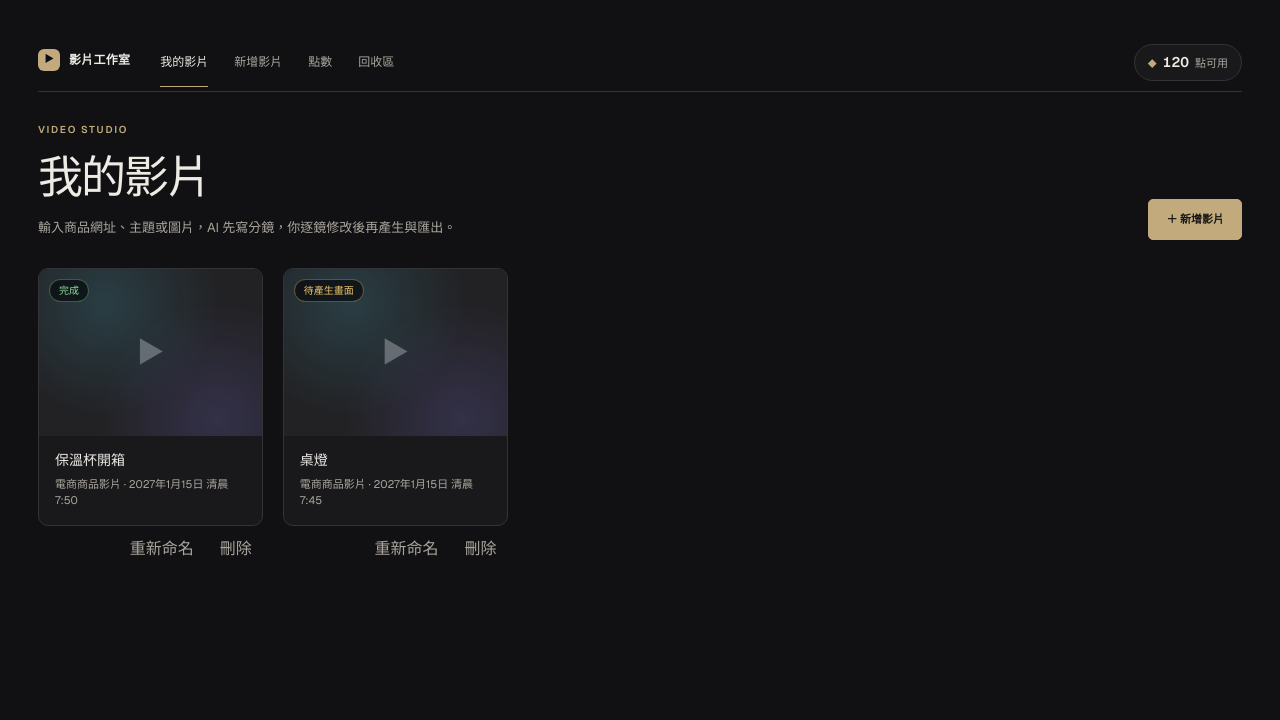
Test: delete from the list › warns that credits are not refunded, then moves the video to the trash
Click the button with aria-label "刪除「保溫杯開箱」". click: (236, 549)
box: [209,532,263,566]
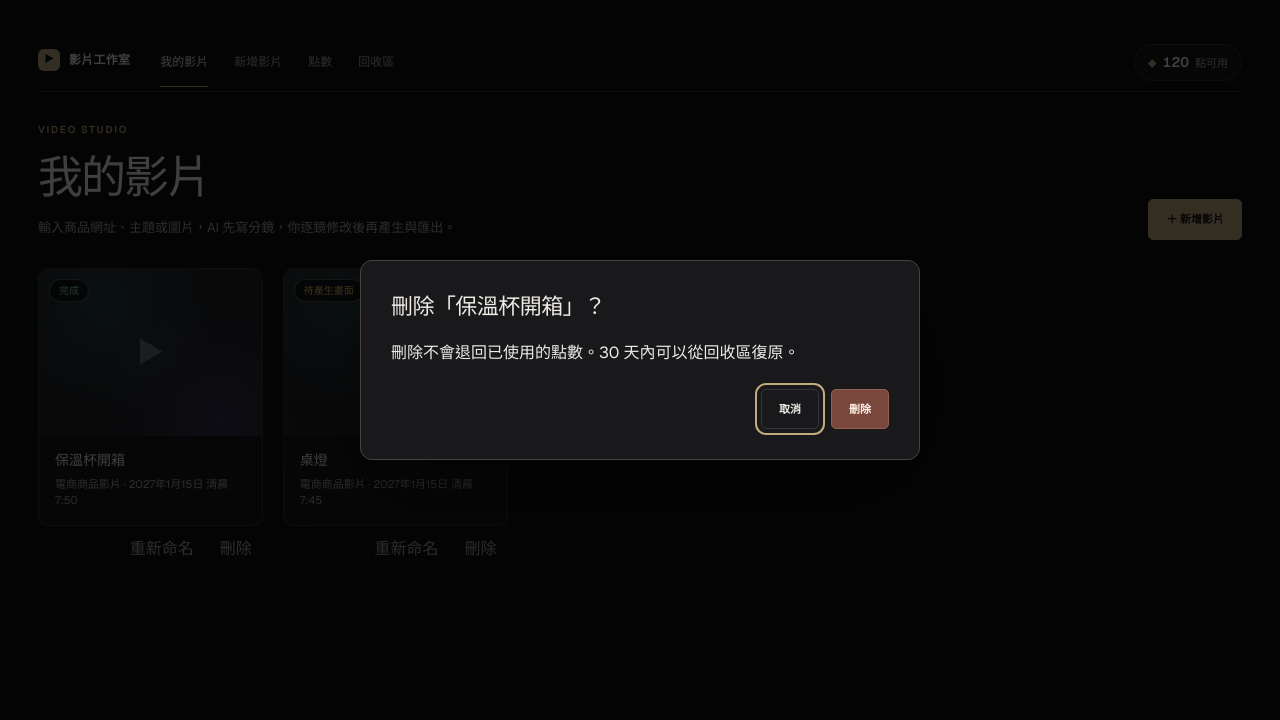
Expected: the dialog "刪除「保溫杯開箱」？" shows "刪除不會退回已使用的點數。30 天內可以從回收區復原。", [391,342,799,363]
Click the button "刪除". click: (860, 409)
box: [831,389,889,429]
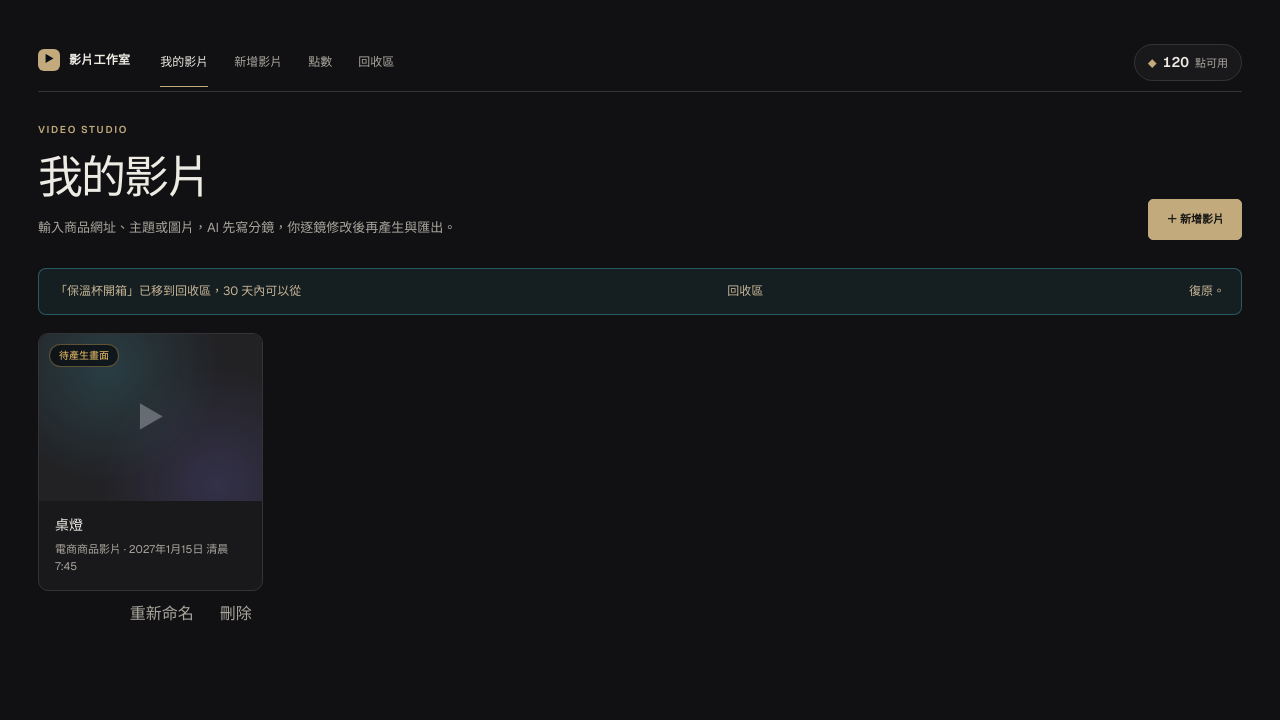
Expected: the link "▶ 待產生畫面 桌燈 電商商品影片 · 2027年1月15日 清晨7:45" is shown, [38,333,263,591]
Expected: the message shows "已移到回收區", [55,282,301,298]
